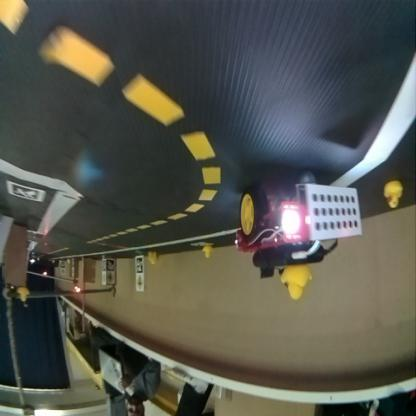Duckie: (280, 267, 312, 301), (384, 181, 402, 209), (147, 252, 157, 264), (202, 247, 212, 258), (17, 292, 27, 301)
Duckiebot: (233, 181, 360, 258)
Intersection sign: (136, 275, 142, 292), (107, 274, 113, 284)
QR code: (7, 183, 44, 199), (135, 257, 142, 273), (106, 260, 114, 272)
Traffic light: (73, 287, 79, 295)
